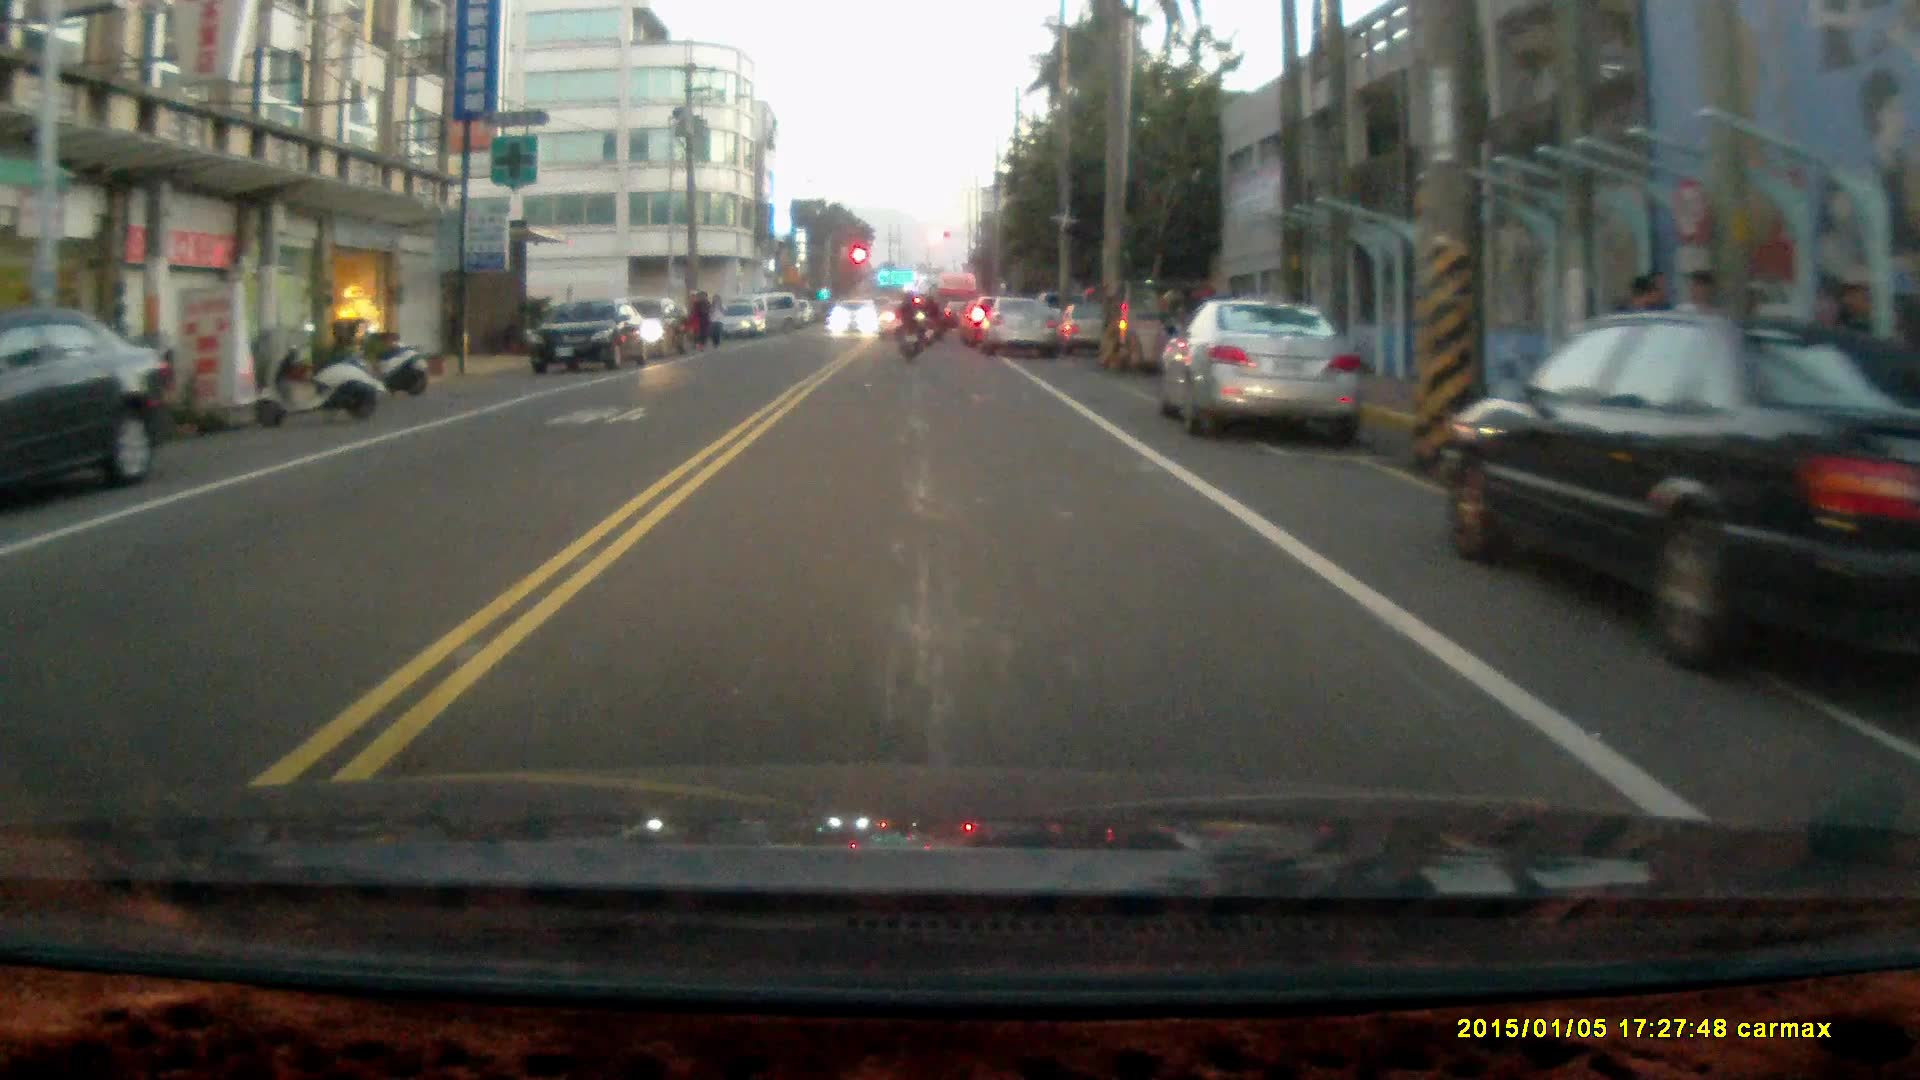pedestrian: (687, 286, 710, 350), (704, 290, 724, 350)
rider: (893, 287, 925, 363)
vehicle: (1443, 306, 1920, 664), (1, 307, 162, 503), (1156, 302, 1362, 435), (526, 298, 656, 379), (978, 291, 1058, 353), (826, 295, 881, 340)
